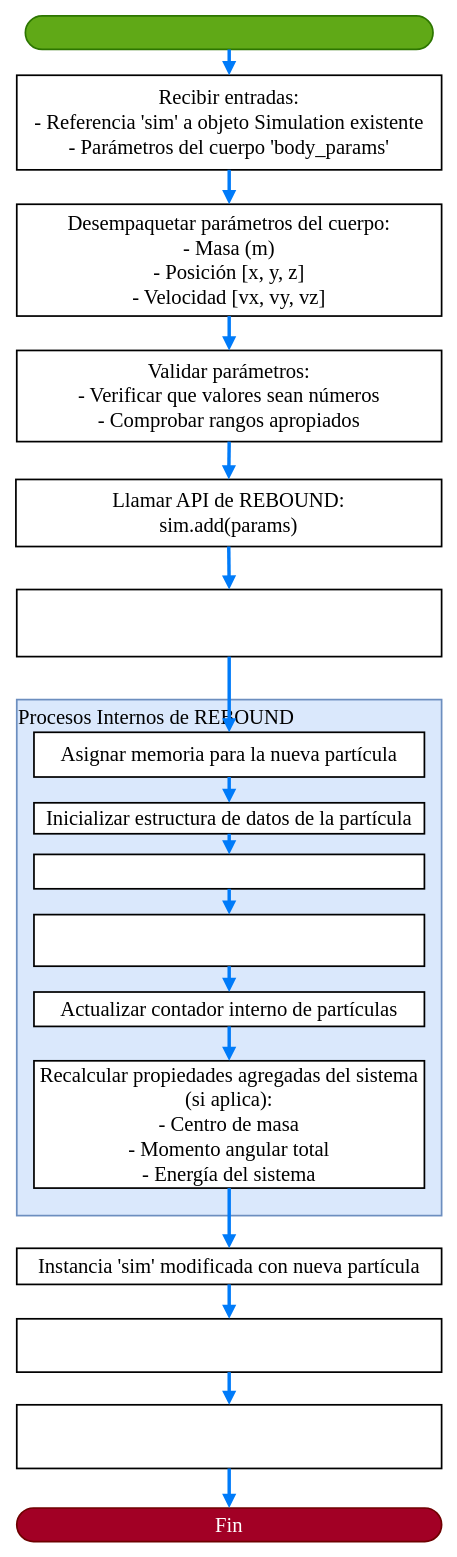
Some shapes in this 457 by 1557 pixel diagram are drawn without their labels. Each missing label, with the centre of its shape:
Añadir partícula a la lista interna de partículas de 'sim': pixel 229 940
Comprobar estado de 'sim' tras añadir partícula (opcional): pixel 228 1345
Copiar parámetros a la nueva partícula: pixel 229 871
Devolver control al proceso invocador (típicamente 'Definir Condiciones'): pixel 228 1436
Inicio: pixel 228 32
REBOUND procesa la solicitud: pixel 228 622
